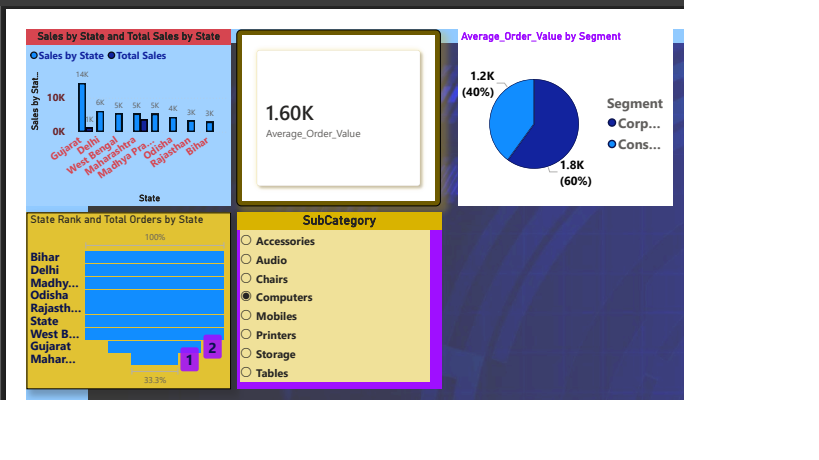

This screenshot's page, from the dashboard's own definition file:
{"tool":"powerbi","page":{"name":"Page 1","canvas":[1280,720],"ordinal":0},"visuals":[{"type":"clusteredColumnChart","fields":{"Y":["Order_table.Sales by State","Order_table.Total Sales"],"Category":["Customer_Table.State"]},"box":[0,0,324.3,280],"z":5},{"type":"funnel","fields":{"Category":["Customer_Table.State"],"Y":["Customer_Table.State Rank"]},"box":[0,290,324,280],"z":6},{"type":"pieChart","fields":{"Category":["Customer_Table.Segment"],"Y":["Order_table.Average_Order_Value"]},"box":[684.3,0,341.4,280],"z":8},{"type":"cardVisual","fields":{"Data":["Order_table.Average_Order_Value"]},"box":[332.9,0,324.3,280],"z":9},{"type":"listSlicer","fields":{"Values":["Product_Table.SubCategory"]},"box":[334,290,324,280],"z":10}]}

Visuals, with their boxes in screenshot pixels (x1, y1, x2, y2), scaled from the page's 1280x720 canvas onto the 819x460 screenshot:
clusteredColumnChart - Order_table.Sales by State x Order_table.Total Sales: box(0, 0, 208, 179)
funnel - Customer_Table.State x Customer_Table.State Rank: box(0, 185, 207, 364)
pieChart - Customer_Table.Segment x Order_table.Average_Order_Value: box(438, 0, 656, 179)
cardVisual - Order_table.Average_Order_Value: box(213, 0, 421, 179)
listSlicer - Product_Table.SubCategory: box(214, 185, 421, 364)
